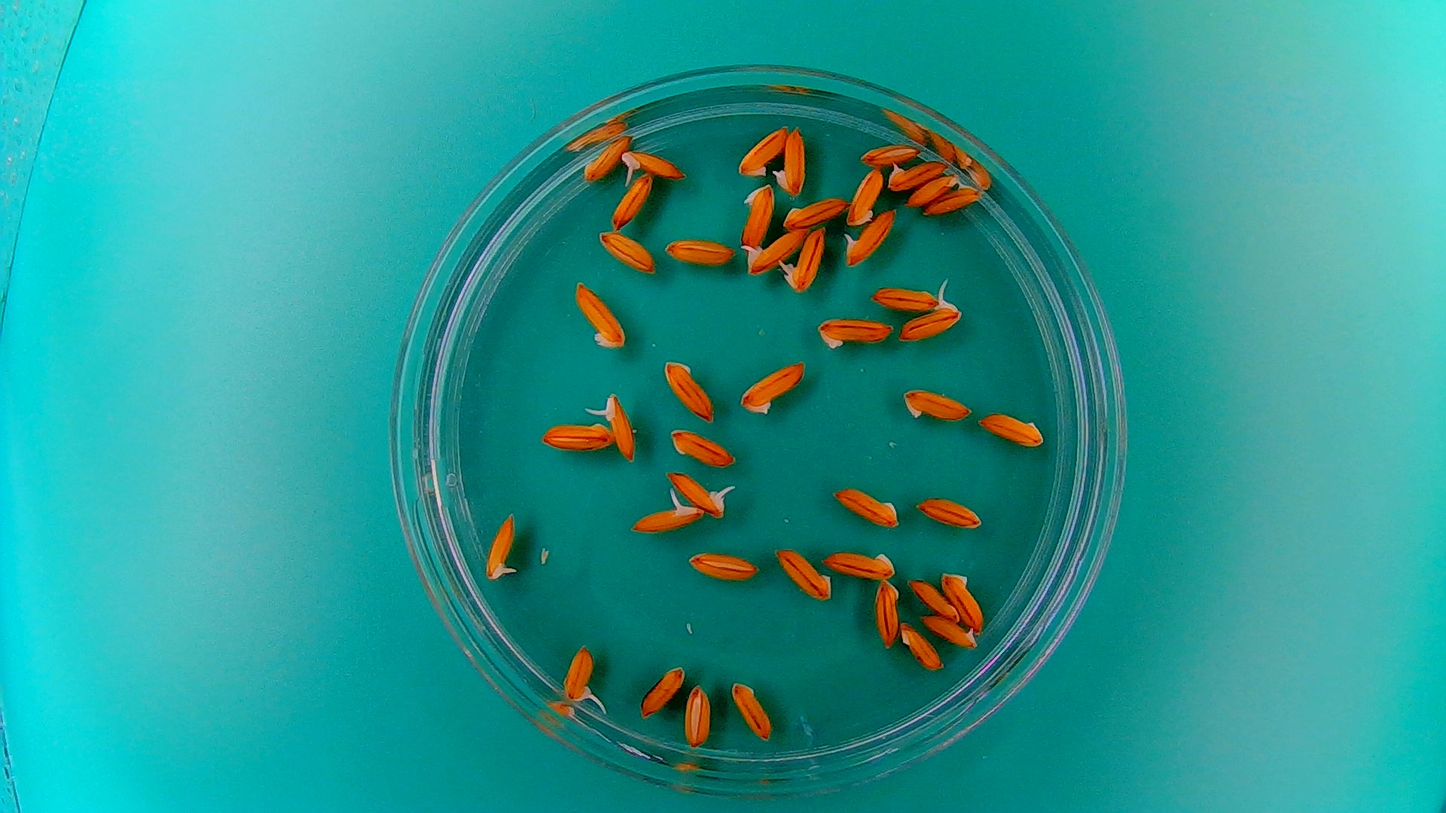no: (737, 358, 808, 417), (572, 277, 627, 351), (771, 544, 834, 602), (660, 356, 715, 422), (830, 483, 901, 529), (813, 312, 894, 350), (734, 122, 789, 177), (667, 425, 737, 468), (941, 568, 985, 635), (899, 383, 974, 422), (728, 676, 773, 741), (683, 547, 762, 583), (819, 544, 898, 580), (975, 409, 1046, 449), (637, 662, 685, 720), (596, 228, 657, 273), (610, 169, 655, 230), (914, 493, 985, 531), (538, 419, 615, 453), (581, 132, 633, 182), (845, 163, 884, 227), (906, 574, 959, 621), (897, 619, 944, 672), (781, 193, 849, 229), (870, 279, 944, 312), (662, 234, 737, 266), (871, 577, 901, 650), (682, 681, 712, 750), (905, 171, 959, 207), (857, 141, 923, 166)
yes: (743, 224, 811, 276), (664, 467, 733, 518), (842, 206, 898, 268), (896, 293, 965, 343), (624, 493, 703, 534), (781, 224, 827, 294), (599, 388, 639, 462), (738, 181, 776, 254), (482, 508, 519, 582), (771, 122, 808, 196), (618, 145, 688, 182), (560, 642, 598, 705), (886, 156, 947, 191), (924, 181, 983, 215), (929, 615, 980, 654)
